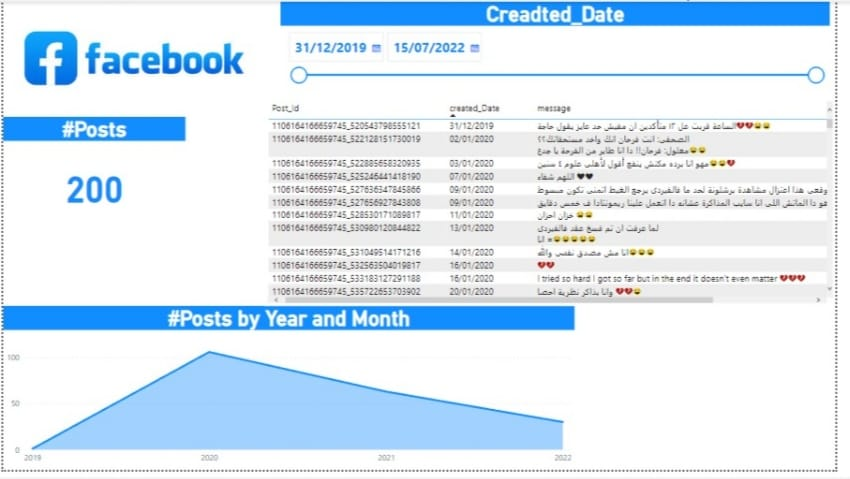

This screenshot's page, from the dashboard's own definition file:
{"tool":"powerbi","page":{"name":"Page 1","canvas":[1280,720],"ordinal":0},"visuals":[{"type":"card","title":"#Posts","fields":{"Values":["Count(Posts.id)"]},"box":[0,177.7,280.3,172.6],"z":0},{"type":"areaChart","title":"#Posts by Year and Month","fields":{"Category":["Posts.created_time.Variation.Date Hierarchy.Year","Posts.created_time.Variation.Date Hierarchy.Month","Posts.created_time.Variation.Date Hierarchy.Day"],"Y":["CountNonNull(Posts.id)"]},"box":[0,468.3,878.4,251.2],"z":1},{"type":"slicer","title":"Creadted_Date","fields":{"Values":["Posts.created_time"]},"box":[425.5,0,844.2,128.2],"z":2},{"type":"tableEx","fields":{"Values":["Posts.Post_Id","Posts.created_Date","Posts.message","Posts.Post_Link"]},"box":[401.6,148.7,878.4,319.6],"z":3},{"type":"image","box":[0,0,401.6,172.6],"z":4}]}

Visuals, with their boxes in screenshot pixels (x1, y1, x2, y2), scaled from the page's 1280x720 canvas onto the 850x479 screenshot:
"#Posts" card: region(0, 118, 186, 233)
"#Posts by Year and Month" areaChart: region(0, 312, 583, 478)
"Creadted_Date" slicer: region(283, 0, 843, 85)
tableEx - Posts.Post_Id x Posts.created_Date: region(267, 99, 849, 312)
image: region(0, 0, 267, 115)
